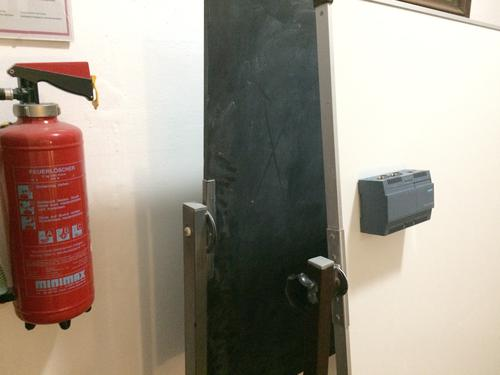iot2000: (356, 168, 434, 237)
